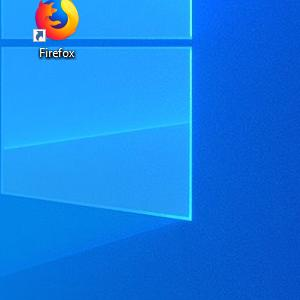firefox: (32, 1, 80, 43)
